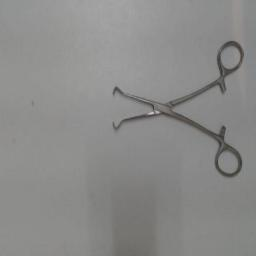Babcock Tissue Forceps: (108, 35, 248, 181)
